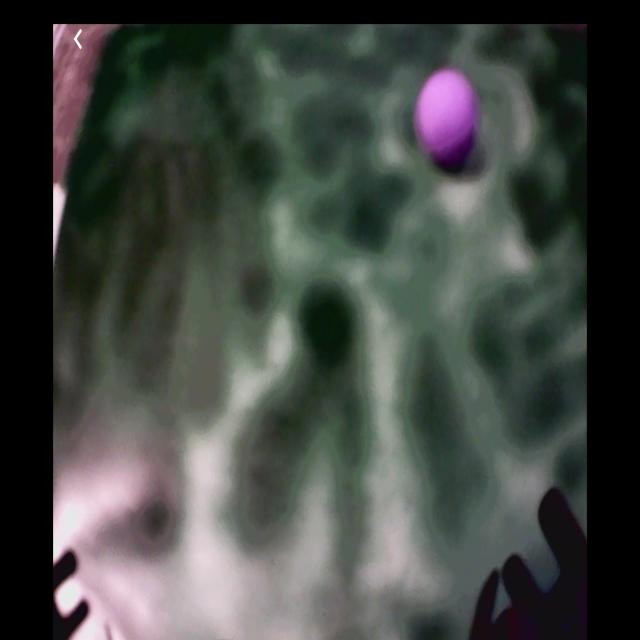ball: (418, 67, 478, 169)
